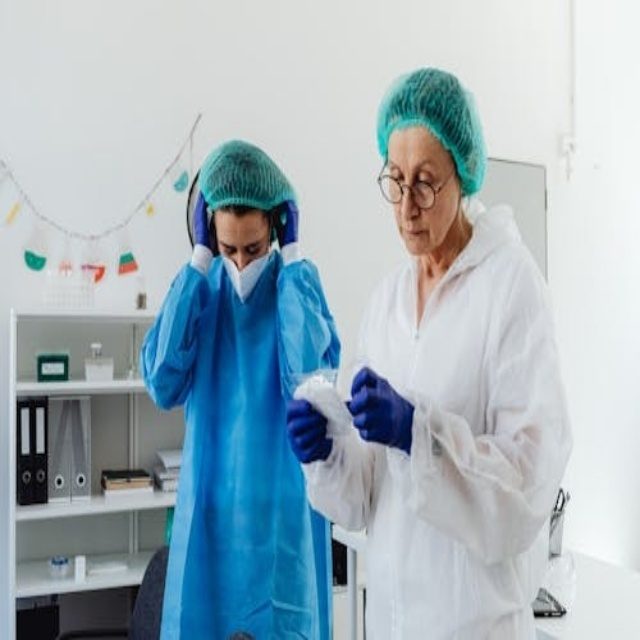Gafas: (377, 162, 454, 209)
Guantes: (349, 367, 416, 454), (286, 396, 335, 464), (192, 188, 215, 265), (275, 198, 300, 258)
Mascara: (222, 245, 275, 304)
Sin_gafas: (218, 227, 268, 261)
Sin_mascara: (397, 219, 435, 254)
